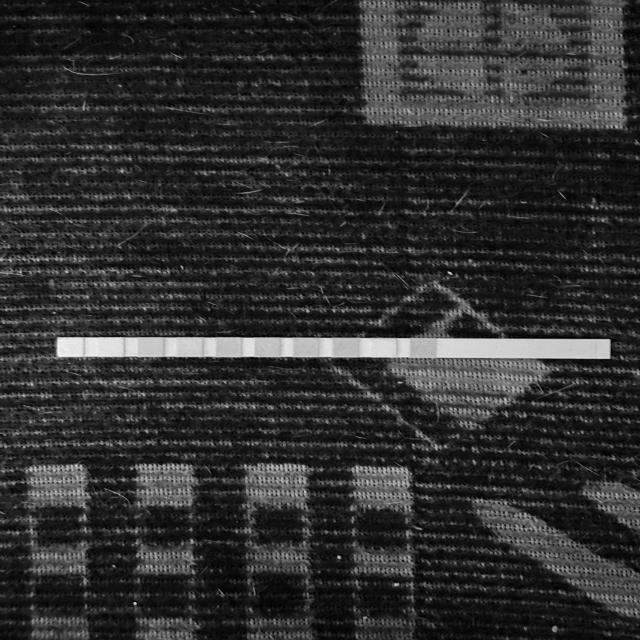Bilirubin: (371, 338, 396, 357)
Blood: (256, 338, 280, 357)
Glucose: (411, 338, 436, 358)
Ketone: (332, 338, 358, 357)
Leukocytes: (58, 338, 84, 356)
Nitrite: (98, 338, 124, 357)
Protein: (177, 338, 202, 357)
SpGravity: (294, 338, 319, 357)
Urobilinogen: (138, 338, 164, 356)
background: (0, 0, 640, 640)
pH: (217, 338, 240, 356)
strip: (56, 337, 612, 359)
